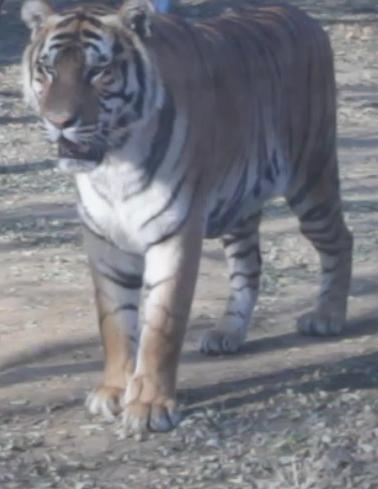tiger: (21, 0, 352, 436)
